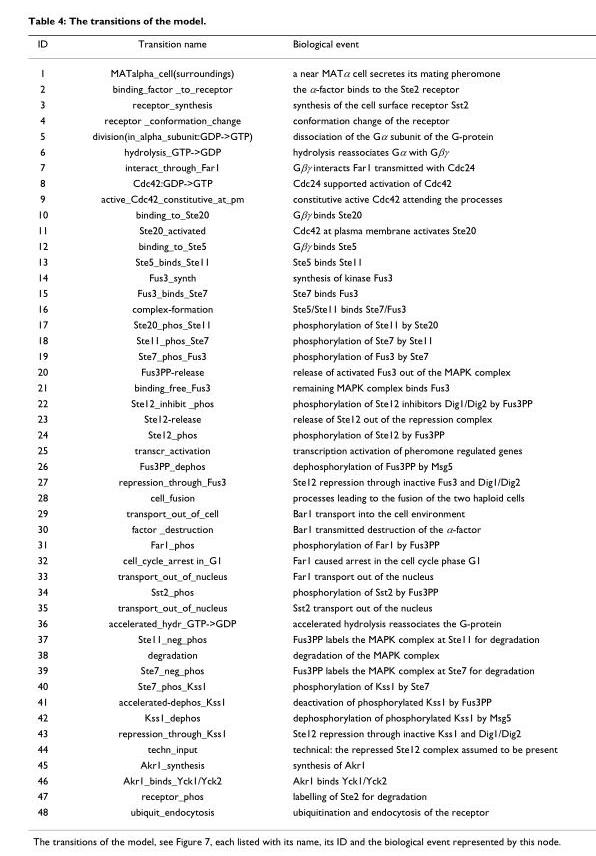table: (36, 37, 556, 817)
table column: (271, 37, 556, 817), (69, 37, 271, 817), (36, 37, 69, 817)
table column header: (36, 37, 556, 57)
table row: (36, 57, 556, 79), (36, 37, 556, 57), (36, 79, 556, 96), (36, 111, 556, 127), (36, 142, 556, 158), (36, 158, 556, 174), (36, 174, 556, 190), (36, 205, 556, 221), (36, 221, 556, 237), (36, 237, 556, 253), (36, 268, 556, 284), (36, 284, 556, 300), (36, 300, 556, 316), (36, 331, 556, 347), (36, 347, 556, 363), (36, 363, 556, 379), (36, 394, 556, 410), (36, 410, 556, 426), (36, 441, 556, 457), (36, 457, 556, 473), (36, 473, 556, 489), (36, 504, 556, 520), (36, 520, 556, 536), (36, 551, 556, 567), (36, 567, 556, 583), (36, 583, 556, 599), (36, 614, 556, 630), (36, 630, 556, 646), (36, 661, 556, 677), (36, 677, 556, 693), (36, 693, 556, 709), (36, 724, 556, 740), (36, 740, 556, 756), (36, 756, 556, 772), (36, 787, 556, 803), (36, 96, 556, 111), (36, 127, 556, 142), (36, 190, 556, 205), (36, 253, 556, 268), (36, 316, 556, 331), (36, 379, 556, 394), (36, 426, 556, 441), (36, 489, 556, 504), (36, 536, 556, 551), (36, 599, 556, 614), (36, 646, 556, 661), (36, 709, 556, 724), (36, 772, 556, 787), (36, 803, 556, 817)
